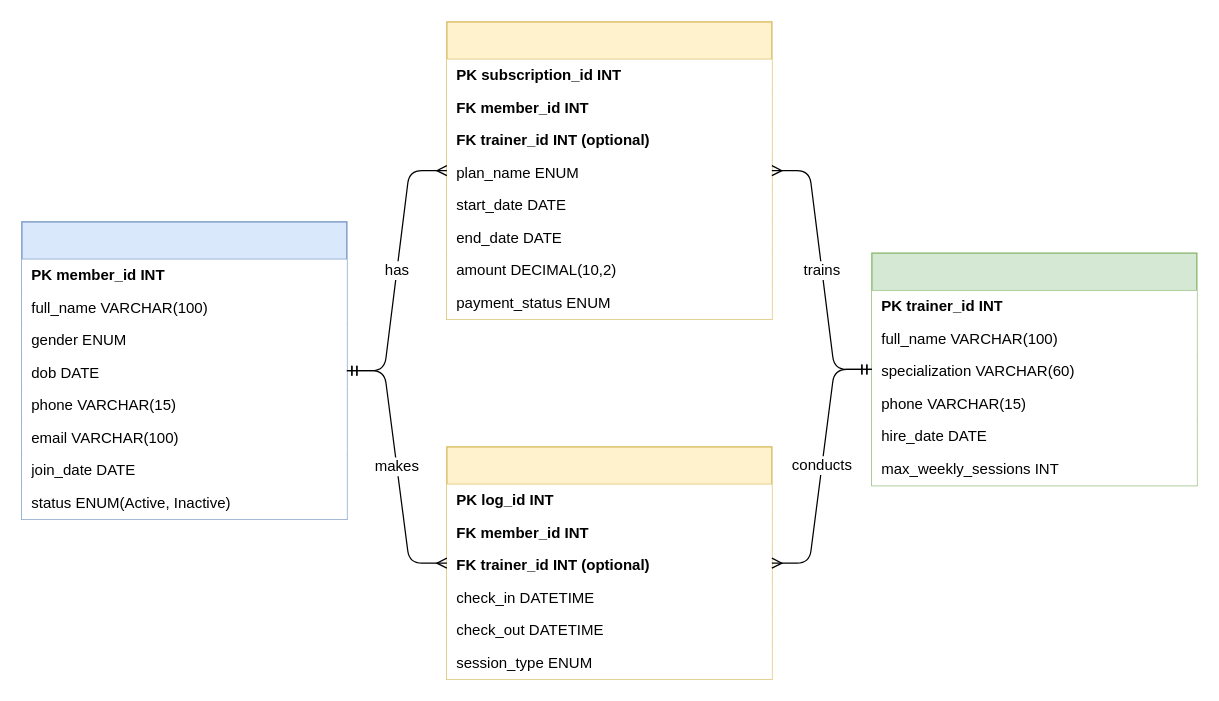
The diagram is 1219 pixels wide and 701 high, and some of its shapes have lost their labels. Each missing label, with the box of its shape:
Access_Logs: (446, 446, 772, 679)
Gym_Members: (21, 221, 347, 519)
Subscriptions: (446, 21, 772, 319)
Trainers: (871, 252, 1197, 486)
